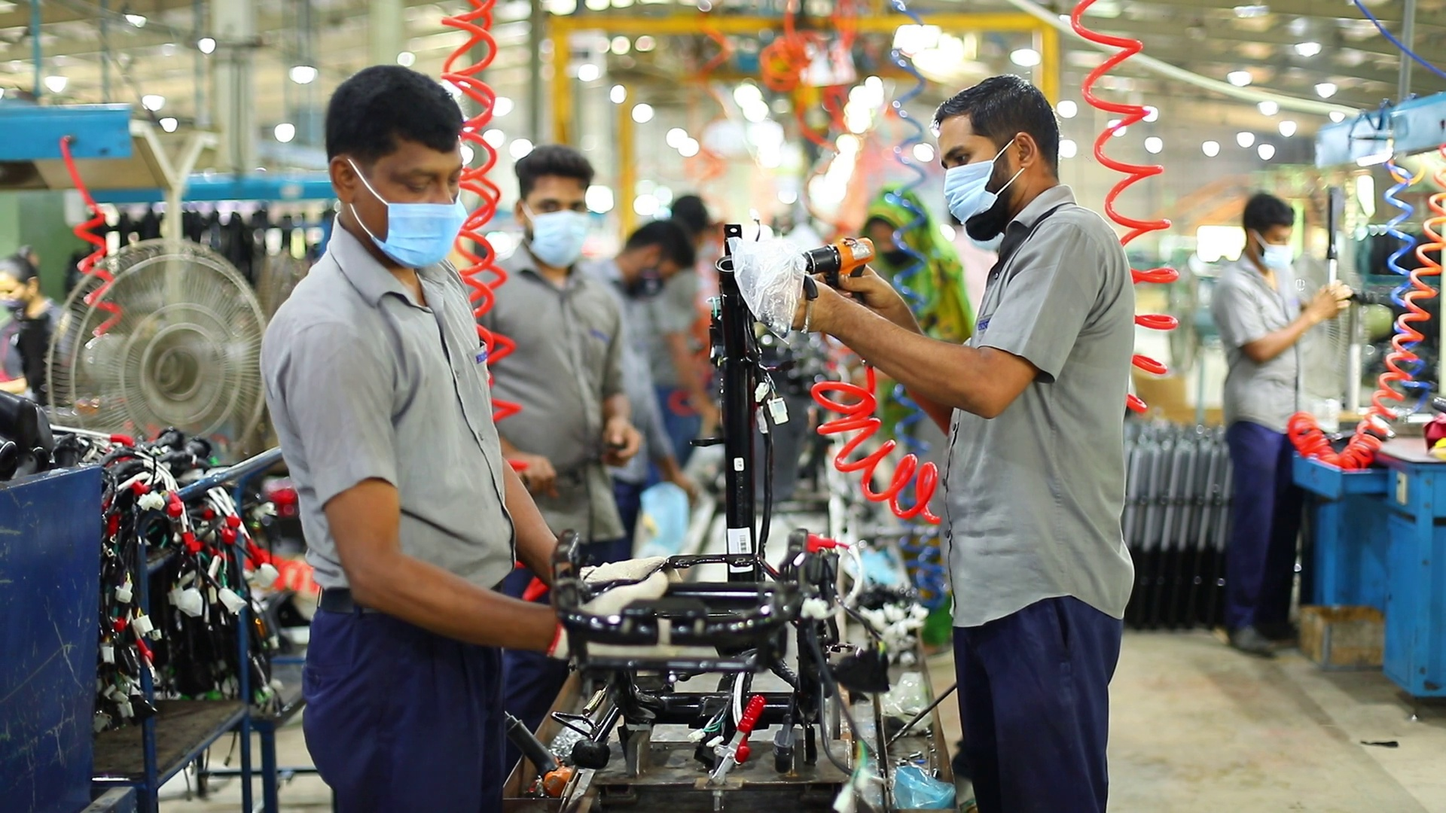mask: (369, 196, 465, 267), (532, 210, 594, 268), (944, 164, 1001, 223), (617, 262, 664, 300), (1252, 239, 1289, 269)
person: (259, 59, 676, 813), (728, 74, 1142, 813), (480, 143, 642, 606), (1209, 188, 1353, 663), (600, 217, 700, 555), (856, 182, 975, 462), (660, 193, 724, 470), (1, 249, 69, 399)
